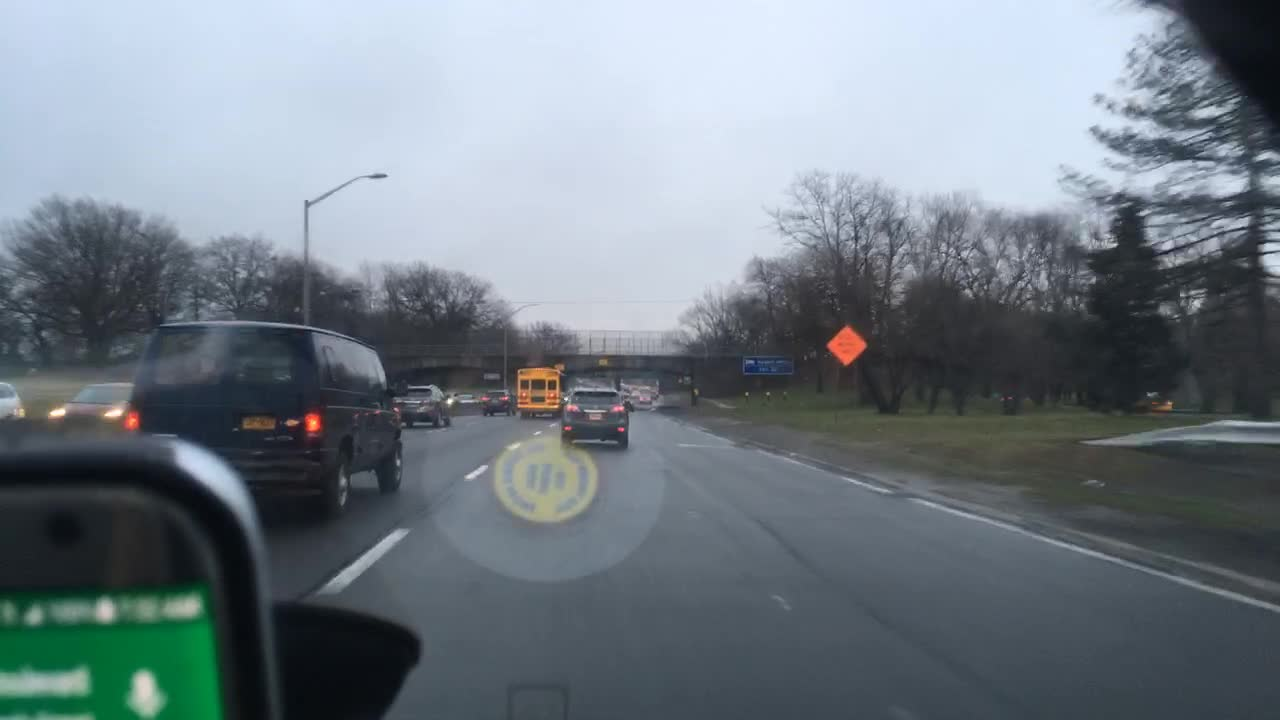bus: (515, 367, 567, 419)
car: (127, 322, 402, 517), (559, 384, 629, 446), (48, 383, 132, 426), (390, 384, 451, 428), (480, 388, 514, 416), (0, 381, 23, 422), (1147, 399, 1171, 410), (457, 392, 478, 403), (621, 395, 633, 411), (629, 390, 641, 400), (650, 392, 657, 401)
traffic sign: (825, 325, 868, 365), (743, 355, 792, 376), (483, 372, 500, 380), (598, 358, 608, 367)
